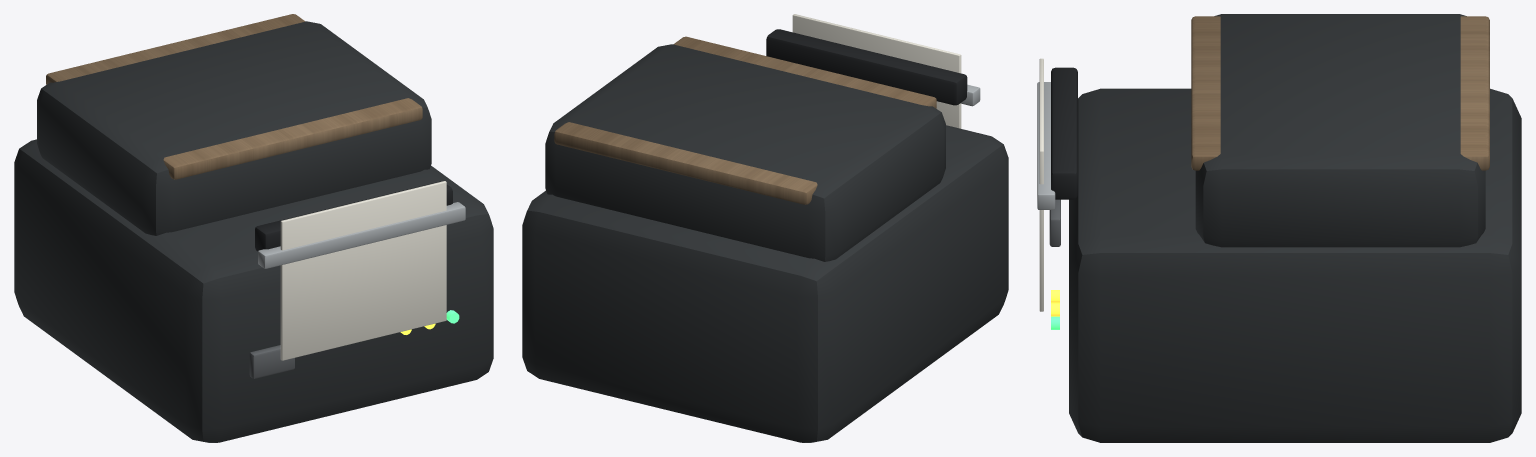
The model's file is receipt_printer_premium.glb.
3 renders of one model, left to right at view 1: azimuth 30°, elevation 25°; view 2: azimuth 150°, elevation 25°; view 3: azimuth 270°, elevation 25°, orthographic. The views are drawn at different scales.
Visible parts, largest first — view 1: Printer_Body, Printer_RollLid, ReceiptPaper, Printer_LidTrim, Printer_AutoCutter, Printer_FeedButton, Printer_OutputSlot; view 2: Printer_Body, Printer_RollLid, Printer_LidTrim, Printer_OutputSlot, ReceiptPaper; view 3: Printer_Body, Printer_RollLid, Printer_LidTrim, Printer_OutputSlot, Printer_AutoCutter, ReceiptPaper, Printer_FeedButton.
Part boxes in pixels (box(x1,y1,x2,y2)): Printer_Body: box(14, 139, 493, 442); Printer_RollLid: box(37, 21, 431, 235); ReceiptPaper: box(280, 181, 446, 360); Printer_LidTrim: box(46, 14, 422, 179); Printer_AutoCutter: box(258, 202, 465, 268); Printer_FeedButton: box(249, 345, 294, 378); Printer_OutputSlot: box(255, 181, 452, 251); Printer_Body: box(522, 125, 1008, 442); Printer_RollLid: box(545, 44, 945, 261); Printer_LidTrim: box(554, 36, 936, 204); Printer_OutputSlot: box(766, 29, 967, 105); ReceiptPaper: box(792, 14, 961, 128); Printer_Body: box(1069, 88, 1521, 442); Printer_RollLid: box(1195, 14, 1485, 247); Printer_LidTrim: box(1191, 16, 1489, 170); Printer_OutputSlot: box(1051, 67, 1077, 199); Printer_AutoCutter: box(1037, 82, 1055, 209); ReceiptPaper: box(1039, 58, 1043, 311); Printer_FeedButton: box(1049, 199, 1060, 246).
Size of what is drawn, in the model's own units: 0.18 by 0.1386 by 0.214.
8 materials, 1 textured.
